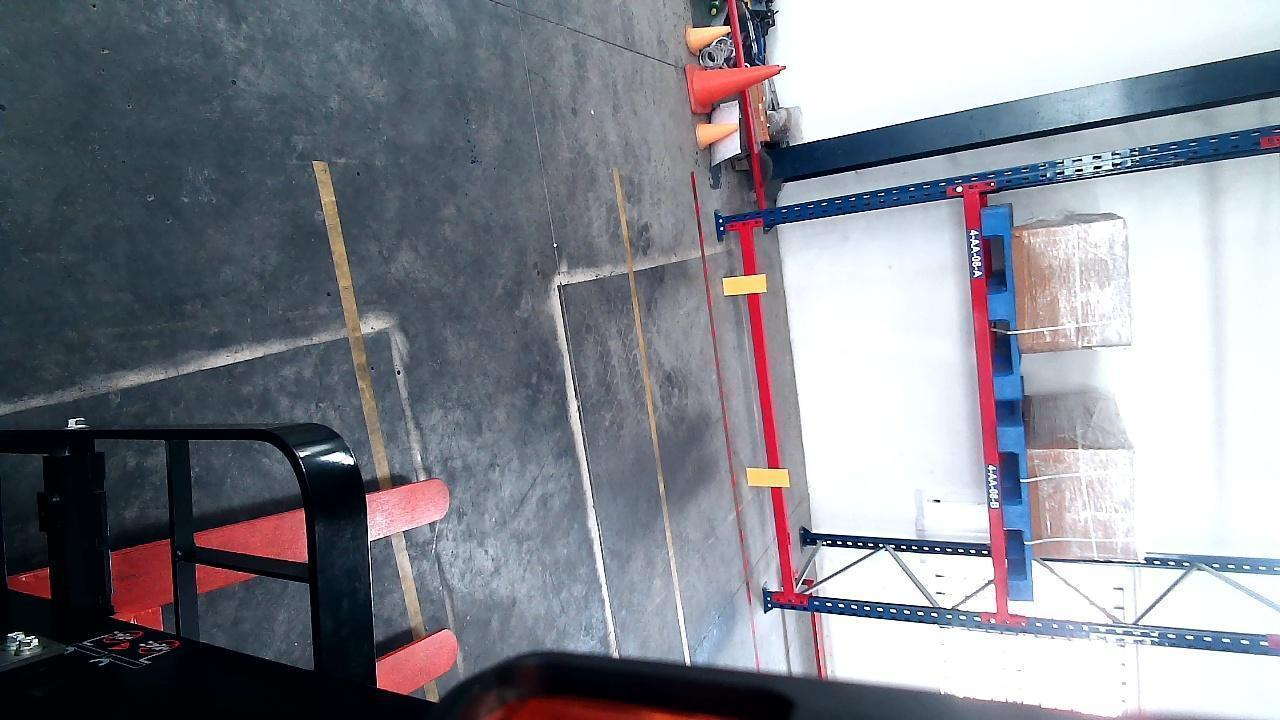red_line: (684, 169, 768, 669)
yellow_line: (315, 154, 436, 704), (613, 173, 690, 663)
